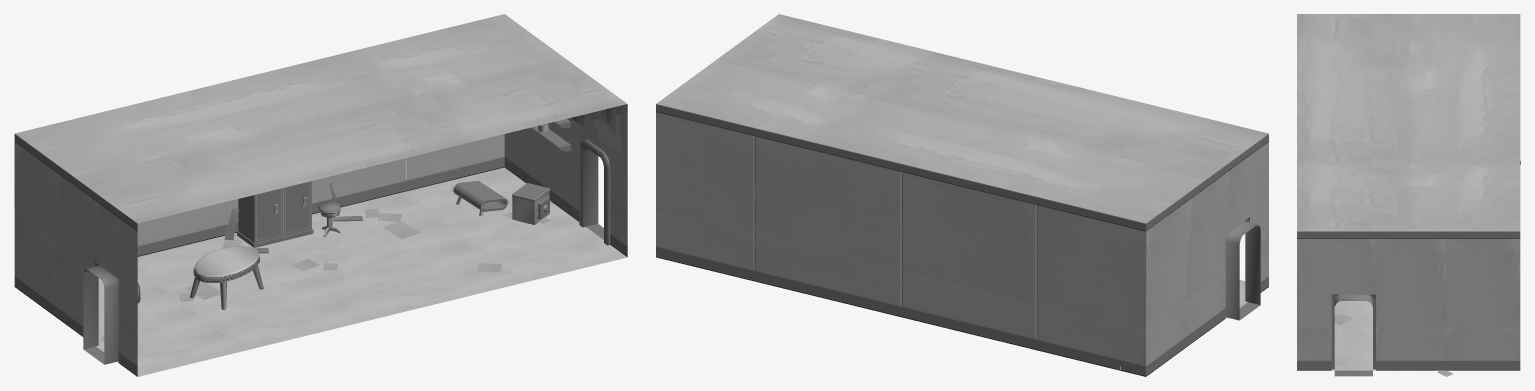
Rendered from MSH_QuestIndustrial_L3_R2_optimized.fbx.
3 renders of one model, left to right at view 1: azimuth 30°, elevation 25°; view 2: azimuth 150°, elevation 25°; view 3: azimuth 270°, elevation 25°, orthographic. The views are drawn at different scales.
Visible parts, largest first — view 1: lightmap0, lightmap3, lightmap2, lightmap1, MSH_QuestIndustrial_L3_R2_papers_01, MSH_QuestIndustrial_L3_R2_dirt_01; view 2: lightmap0, lightmap1; view 3: lightmap0, lightmap3, lightmap1, MSH_QuestIndustrial_L3_R2_papers_01.
Boxes of the visible parts, bbox=[...] form: lightmap0: bbox=[14, 14, 627, 376]; lightmap3: bbox=[96, 167, 627, 376]; lightmap2: bbox=[137, 181, 550, 310]; lightmap1: bbox=[83, 147, 603, 364]; MSH_QuestIndustrial_L3_R2_papers_01: bbox=[100, 185, 551, 341]; MSH_QuestIndustrial_L3_R2_dirt_01: bbox=[14, 105, 626, 206]; lightmap0: bbox=[656, 14, 1268, 376]; lightmap1: bbox=[1225, 221, 1260, 320]; lightmap0: bbox=[1297, 14, 1520, 370]; lightmap3: bbox=[1331, 160, 1520, 370]; lightmap1: bbox=[1334, 294, 1372, 376]; MSH_QuestIndustrial_L3_R2_papers_01: bbox=[1334, 314, 1453, 376].
Size of the model in its own units: 20.7 by 5.97 by 8.54.
3 materials, 3 textured.
